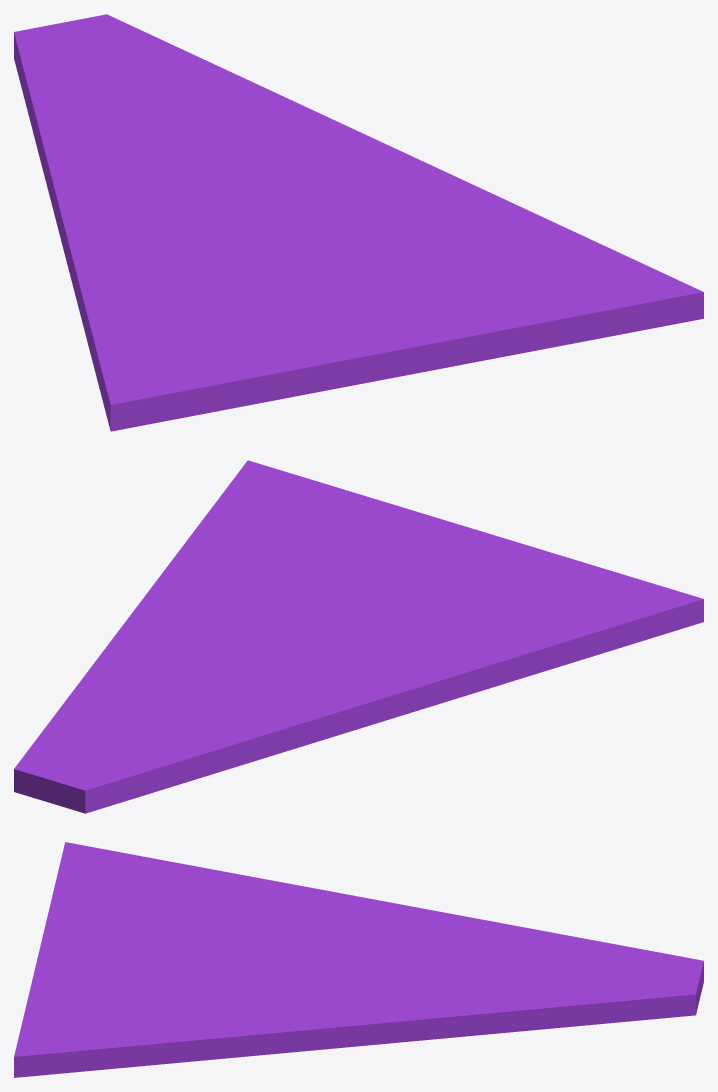
File: StairsStep_44.fbx
The picture shows the model from 3 angles, top to bottom: view 1: azimuth 30°, elevation 25°; view 2: azimuth 150°, elevation 25°; view 3: azimuth 270°, elevation 25°; orthographic projection. The views are drawn at different scales.
Visible parts, largest first — view 1: StairsStep_44; view 2: StairsStep_44; view 3: StairsStep_44.
Part boxes in pixels (x1,y1,x2,y2): StairsStep_44: (14, 14, 703, 431); StairsStep_44: (14, 460, 703, 813); StairsStep_44: (14, 842, 703, 1077).
Bounding box in the file's own units: 395 × 17.94 × 535.
